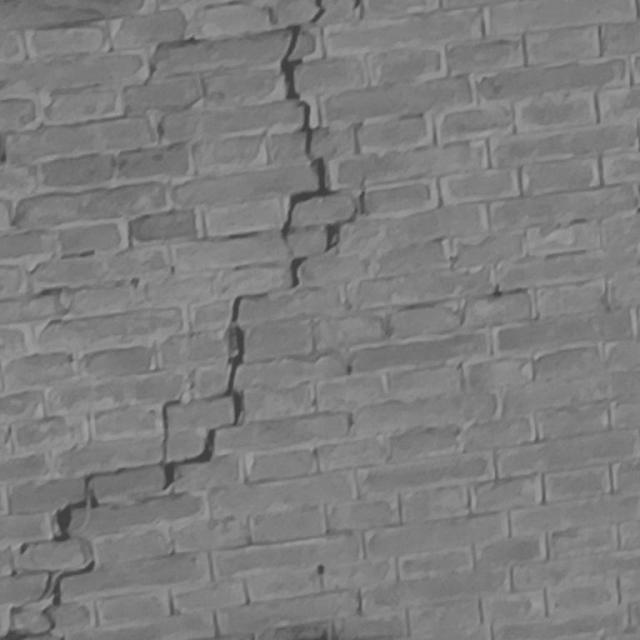crack: (1, 1, 366, 640)
